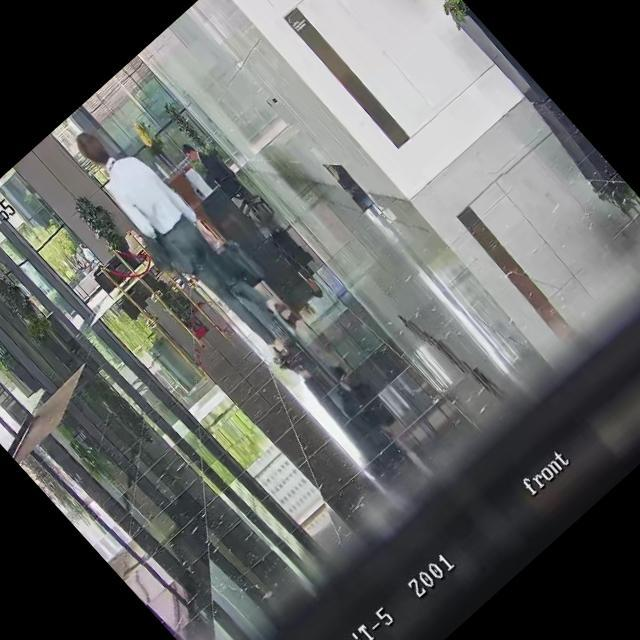person: (62, 109, 312, 378), (176, 130, 274, 234)
